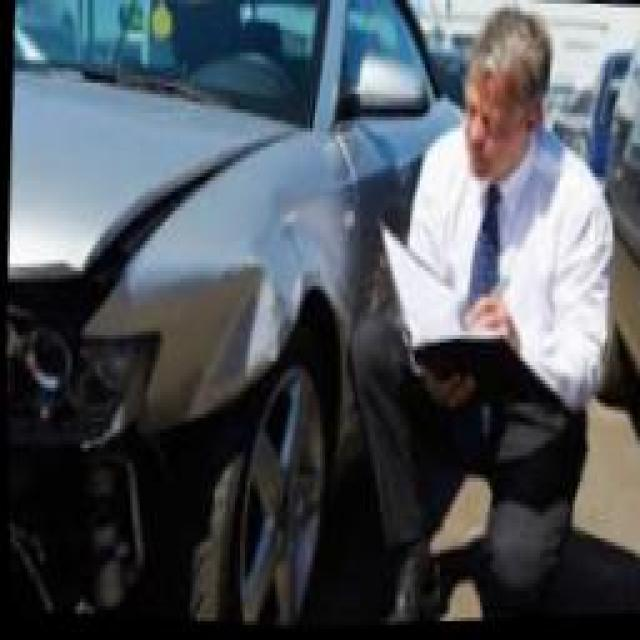Bonnet: (5, 71, 301, 312)
Bumper: (7, 430, 149, 616)
Fender: (77, 123, 356, 435)
